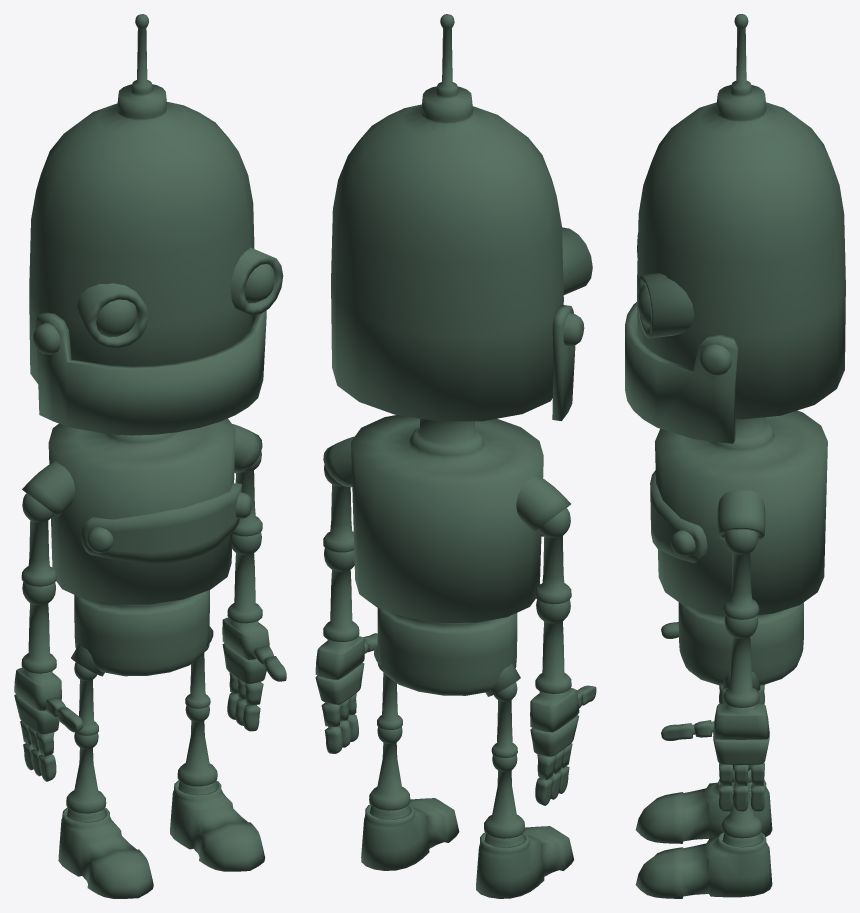
File: Robot5_02.FBX
The picture shows the model from 3 angles, left to right: view 1: azimuth 30°, elevation 25°; view 2: azimuth 150°, elevation 25°; view 3: azimuth 270°, elevation 25°; orthographic projection. The views are drawn at different scales.
Parts seen in each view (by area): view 1: default; view 2: default; view 3: default.
Boxes of the visible parts, box(x1,y1,x2,y2) form: default: box(14, 14, 286, 898); default: box(315, 14, 596, 898); default: box(625, 14, 845, 898).
Bounding box in the file's own units: 14.5 × 48.72 × 11.58.
